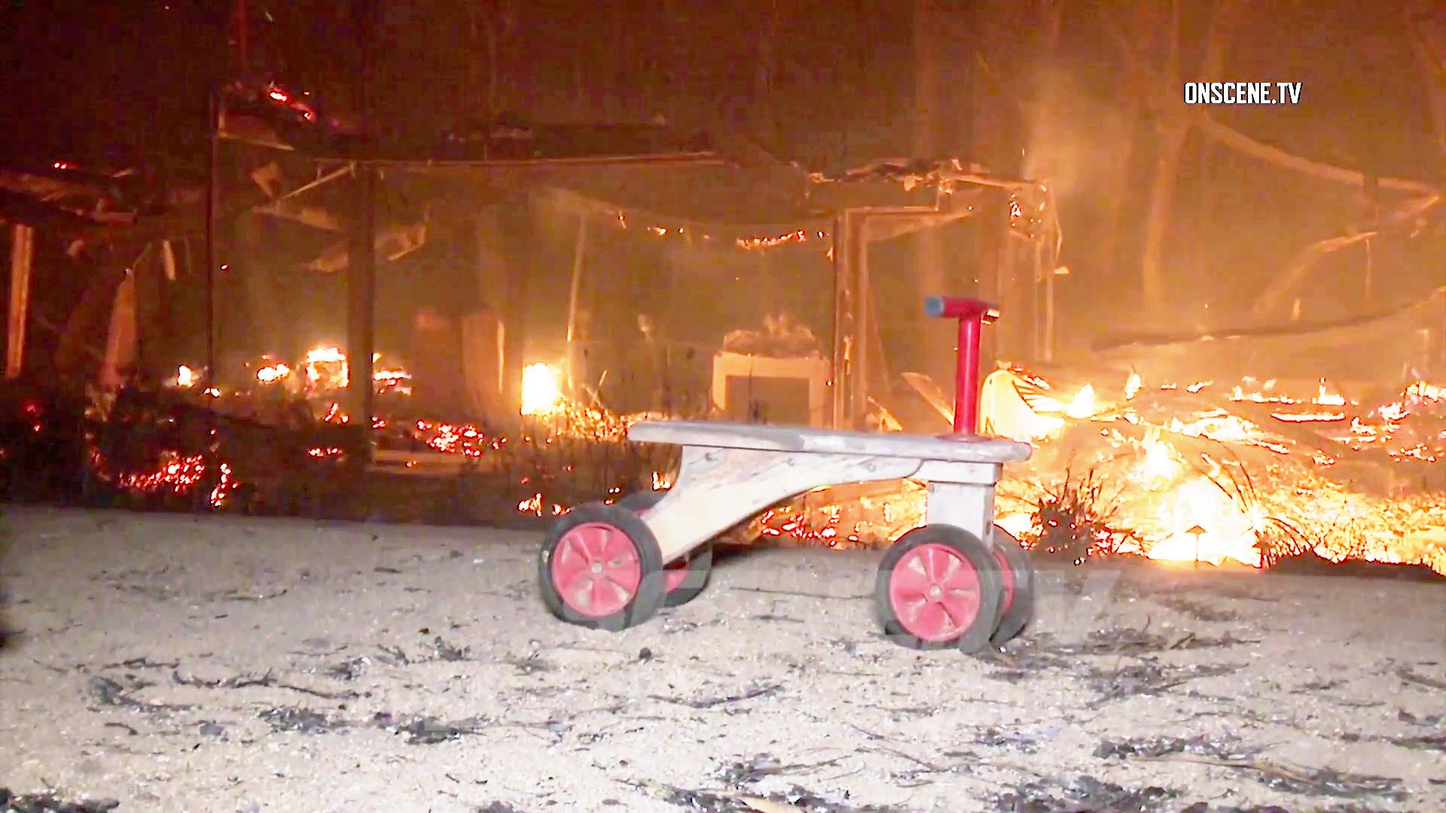fire: (1132, 450, 1264, 565)
